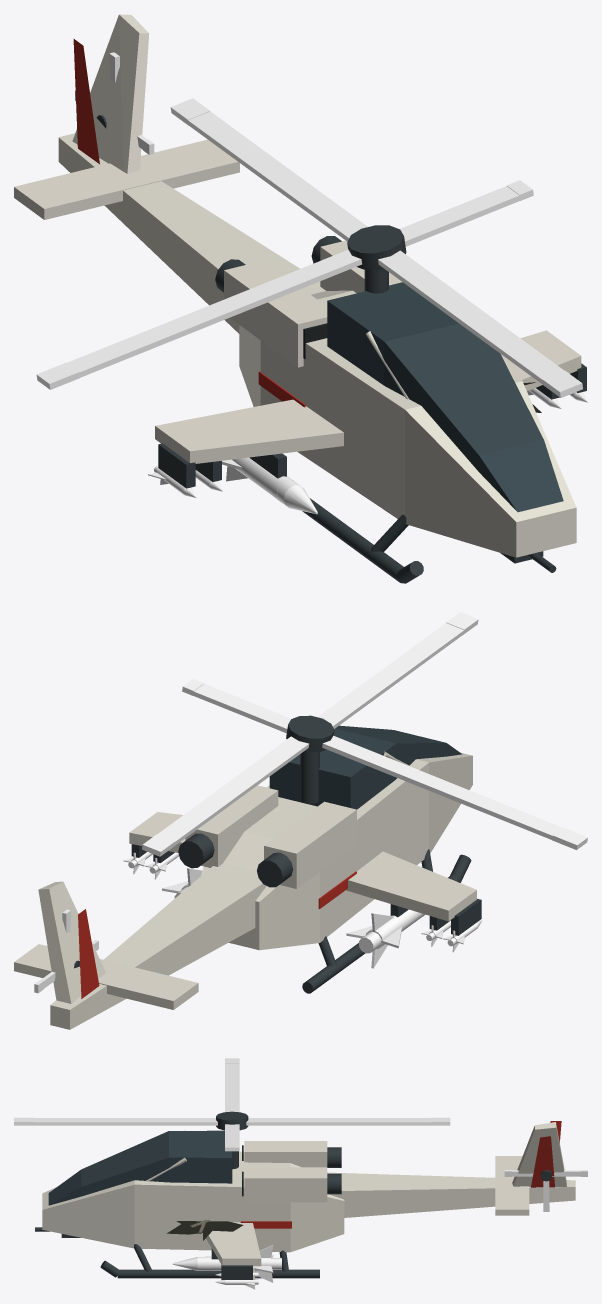
3 views of the same model, one above another, from view 1: azimuth 30°, elevation 25°; view 2: azimuth 150°, elevation 25°; view 3: azimuth 270°, elevation 25° (orthographic). The views are drawn at different scales.
Parts seen in each view (by area): view 1: helicopter-damaged-fleet-armor, helicopter-damaged-fleet-glass, blade-arm-2-painted, helicopter-damaged-fleet-machine, blade-arm-3-painted, blade-arm-1-painted, blade-arm-0-painted, helicopter-damaged-fleet-red, store-left-large-painted, rotor-main-fleet-machine; view 2: helicopter-damaged-fleet-armor, helicopter-damaged-fleet-glass, helicopter-damaged-fleet-machine, blade-arm-2-painted, blade-arm-1-painted, blade-arm-3-painted, store-left-large-painted, blade-arm-0-painted, helicopter-damaged-fleet-red, rotor-main-fleet-machine; view 3: helicopter-damaged-fleet-armor, helicopter-damaged-fleet-glass, helicopter-damaged-fleet-machine, blade-arm-1-painted, blade-arm-3-painted, helicopter-damaged-fleet-red, store-right-large-painted, blade-arm-2-painted, helicopter-damaged-fleet-damage-charred, rotor-main-fleet-machine, blade-arm-0-painted.
Part boxes in pixels (<box>): helicopter-damaged-fleet-armor: <box>14,14,581,557</box>; helicopter-damaged-fleet-glass: <box>327,282,563,512</box>; blade-arm-2-painted: <box>36,249,361,389</box>; helicopter-damaged-fleet-machine: <box>158,236,586,583</box>; blade-arm-3-painted: <box>378,250,582,397</box>; blade-arm-1-painted: <box>170,98,367,241</box>; blade-arm-0-painted: <box>399,180,533,246</box>; helicopter-damaged-fleet-red: <box>73,39,305,407</box>; store-left-large-painted: <box>222,457,317,514</box>; rotor-main-fleet-machine: <box>347,225,406,269</box>; helicopter-damaged-fleet-armor: <box>14,751,476,1029</box>; helicopter-damaged-fleet-glass: <box>269,725,461,809</box>; helicopter-damaged-fleet-machine: <box>131,751,481,993</box>; blade-arm-2-painted: <box>322,735,587,849</box>; blade-arm-1-painted: <box>142,736,309,856</box>; blade-arm-3-painted: <box>317,612,478,728</box>; store-left-large-painted: <box>346,909,425,968</box>; blade-arm-0-painted: <box>182,679,291,733</box>; helicopter-damaged-fleet-red: <box>78,871,356,998</box>; rotor-main-fleet-machine: <box>286,715,334,752</box>; helicopter-damaged-fleet-armor: <box>42,1122,575,1266</box>; helicopter-damaged-fleet-glass: <box>48,1130,232,1205</box>; helicopter-damaged-fleet-machine: <box>100,1147,341,1279</box>; blade-arm-1-painted: <box>246,1117,450,1125</box>; blade-arm-3-painted: <box>14,1117,217,1125</box>; helicopter-damaged-fleet-red: <box>240,1121,561,1228</box>; store-right-large-painted: <box>172,1245,281,1282</box>; blade-arm-2-painted: <box>225,1058,239,1112</box>; helicopter-damaged-fleet-damage-charred: <box>167,1221,243,1240</box>; rotor-main-fleet-machine: <box>216,1111,248,1130</box>; blade-arm-0-painted: <box>225,1124,239,1151</box>.
Size of the model in its own units: 40.54 by 19.2 by 66.32.
